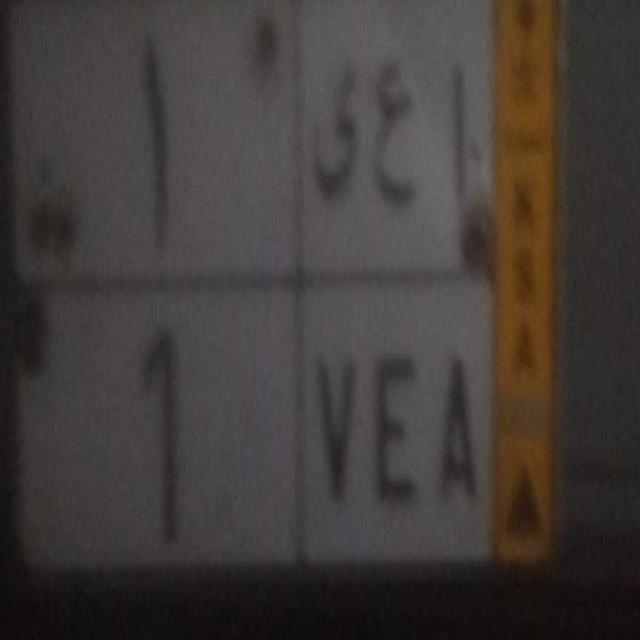license_plate: (22, 277, 494, 590)
